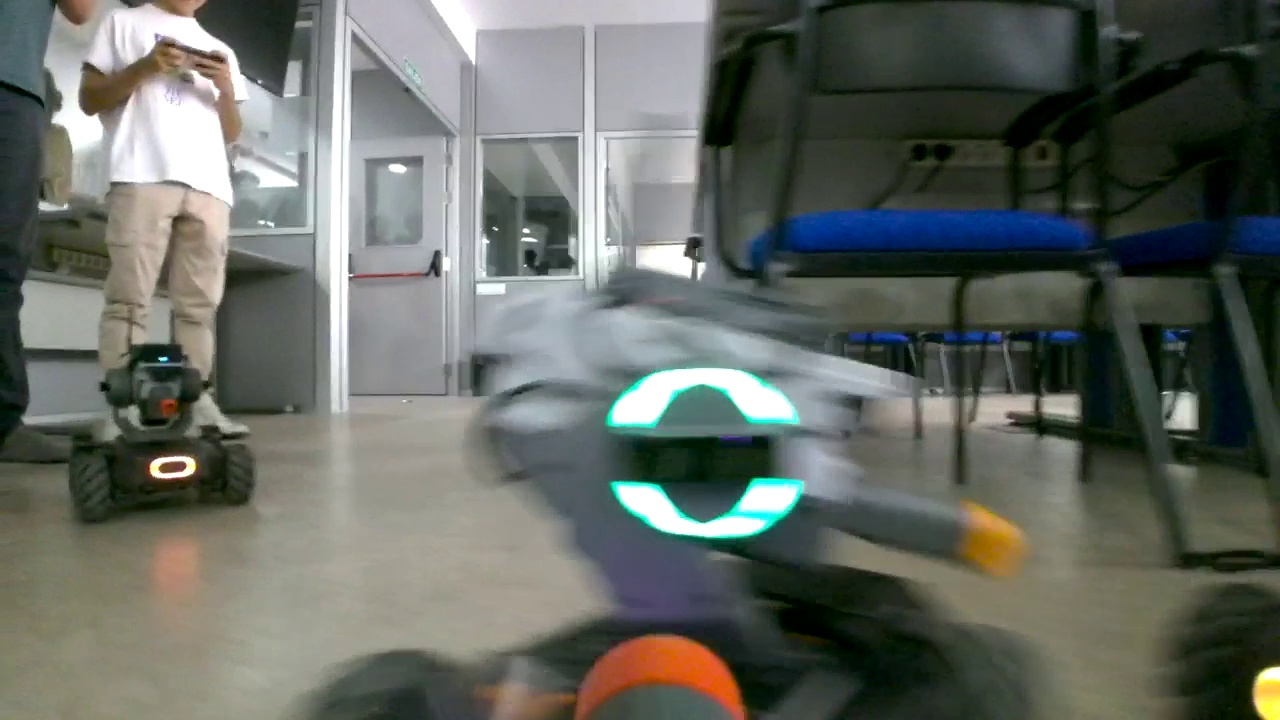robot: (300, 265, 1038, 720), (67, 303, 255, 513)
